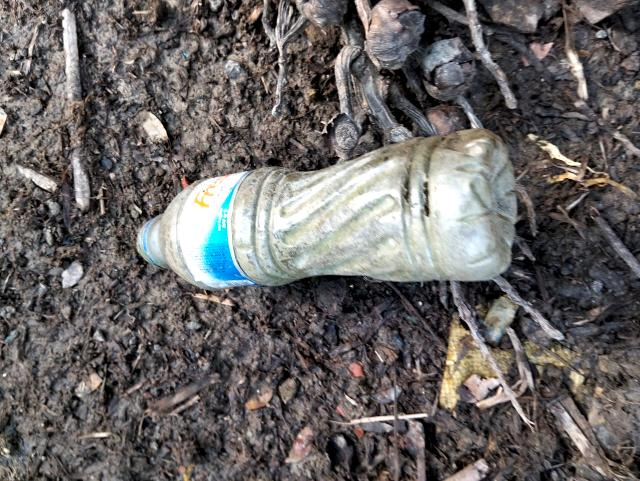bottle: (148, 140, 520, 305)
